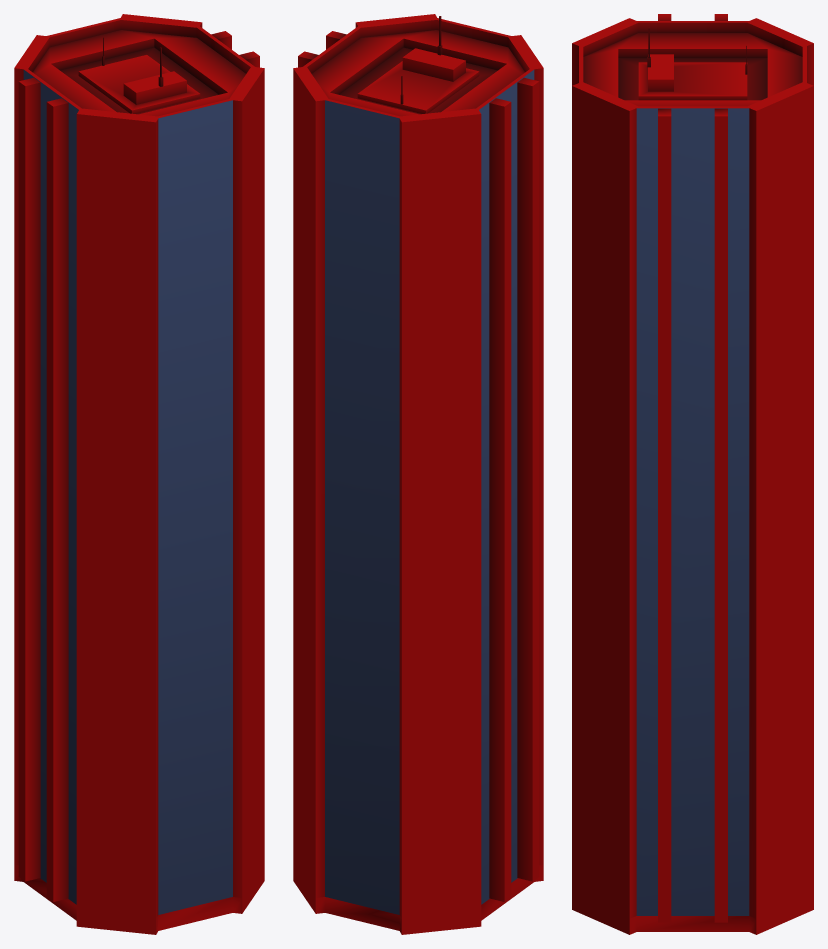
Rendered from RC_ComBuilding16.fbx.
3 views of the same model, side by side, from view 1: azimuth 30°, elevation 25°; view 2: azimuth 150°, elevation 25°; view 3: azimuth 270°, elevation 25° (orthographic).
Parts seen in each view (by area): view 1: base.044, windowRefl.027; view 2: base.044, windowRefl.027; view 3: base.044, windowRefl.027.
Part boxes in pixels (<box>): base.044: <box>14,14,264,934</box>; windowRefl.027: <box>23,70,232,914</box>; base.044: <box>293,14,543,934</box>; windowRefl.027: <box>325,70,534,914</box>; base.044: <box>572,14,813,934</box>; windowRefl.027: <box>636,108,749,915</box>.
Size of the model in its own units: 2102 by 8241 by 2100.
